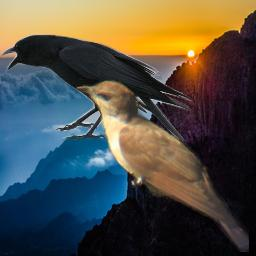Crow: (1, 34, 194, 141)
Cuckoo: (75, 80, 249, 252)
